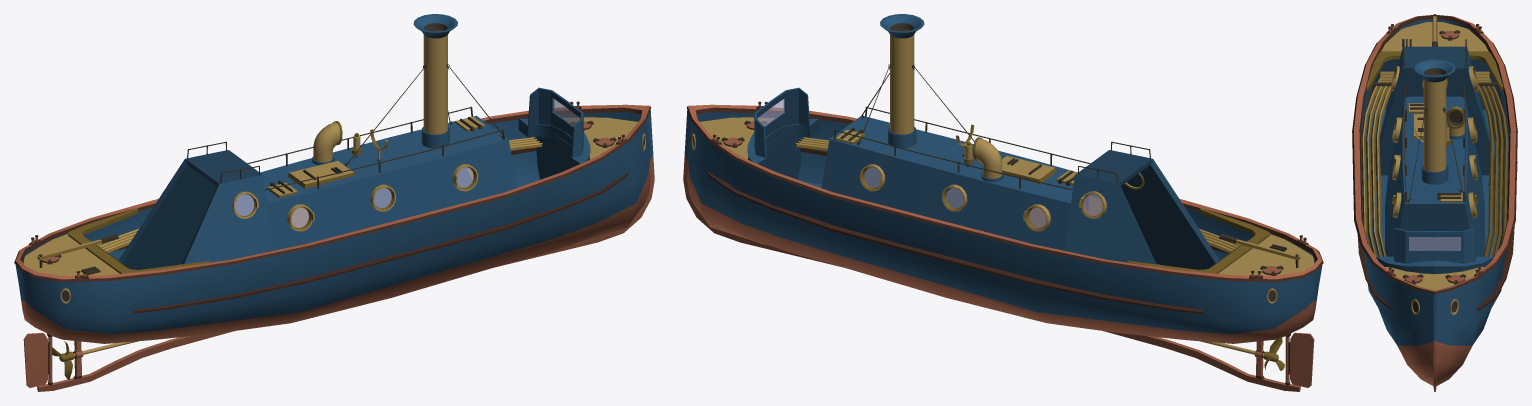
Rendered from draft_3.glb.
The picture shows the model from 3 angles, left to right: view 1: azimuth 30°, elevation 25°; view 2: azimuth 150°, elevation 25°; view 3: azimuth 270°, elevation 25°; orthographic projection. The views are drawn at different scales.
Visible parts, largest first — view 1: Object_3, Object_4, Object_10, Object_6, Object_9, Object_8, Object_2, Object_7, Object_5; view 2: Object_3, Object_4, Object_10, Object_6, Object_9, Object_8, Object_2, Object_7, Object_5; view 3: Object_3, Object_6, Object_10, Object_8, Object_9, Object_2, Object_4, Object_7, Object_5.
Boxes of the visible parts, left/top/right/bottom form: Object_3: left=15, top=14, right=653, bottom=334; Object_4: left=21, top=104, right=654, bottom=391; Object_10: left=118, top=29, right=590, bottom=269; Object_6: left=23, top=34, right=646, bottom=356; Object_9: left=14, top=101, right=650, bottom=385; Object_8: left=37, top=121, right=542, bottom=379; Object_2: left=15, top=104, right=649, bottom=279; Object_7: left=38, top=23, right=644, bottom=301; Object_5: left=235, top=98, right=579, bottom=227; Object_3: left=684, top=14, right=1322, bottom=334; Object_4: left=683, top=104, right=1316, bottom=391; Object_10: left=747, top=29, right=1219, bottom=269; Object_6: left=691, top=34, right=1314, bottom=356; Object_9: left=687, top=101, right=1323, bottom=385; Object_8: left=795, top=125, right=1300, bottom=370; Object_2: left=688, top=104, right=1322, bottom=279; Object_7: left=693, top=23, right=1298, bottom=301; Object_5: left=758, top=98, right=1102, bottom=227; Object_3: left=1360, top=19, right=1509, bottom=345; Object_6: left=1362, top=16, right=1507, bottom=314; Object_10: left=1371, top=46, right=1498, bottom=274; Object_8: left=1361, top=15, right=1508, bottom=256; Object_9: left=1352, top=15, right=1517, bottom=310; Object_2: left=1354, top=15, right=1515, bottom=291; Object_4: left=1388, top=26, right=1481, bottom=391; Object_7: left=1366, top=14, right=1503, bottom=312; Object_5: left=1395, top=74, right=1474, bottom=250.
Size of the model in its own units: 3.26 by 1.35 by 0.7923.
